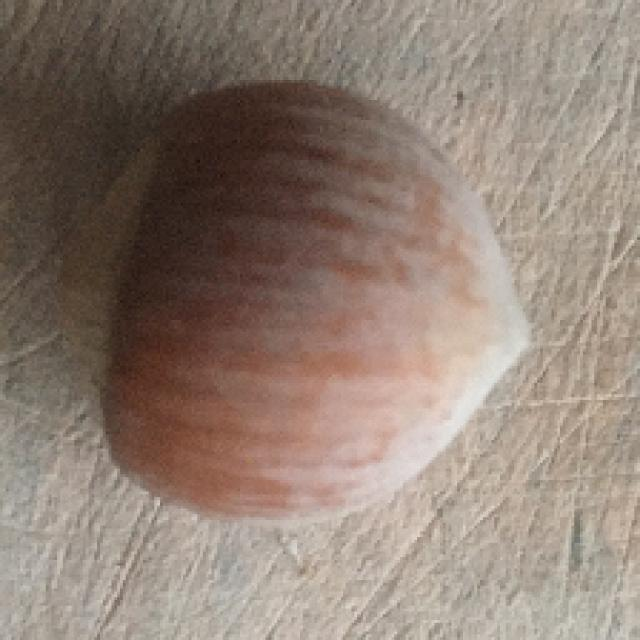QualityHazelnut: (61, 83, 532, 529)
